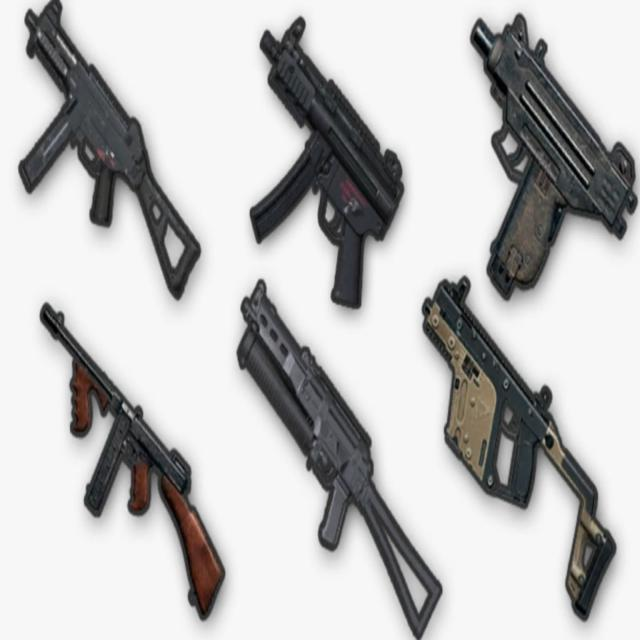smg: (228, 292, 475, 640), (432, 272, 629, 616), (35, 303, 243, 598), (14, 4, 204, 293), (460, 1, 624, 314), (248, 1, 377, 321)
